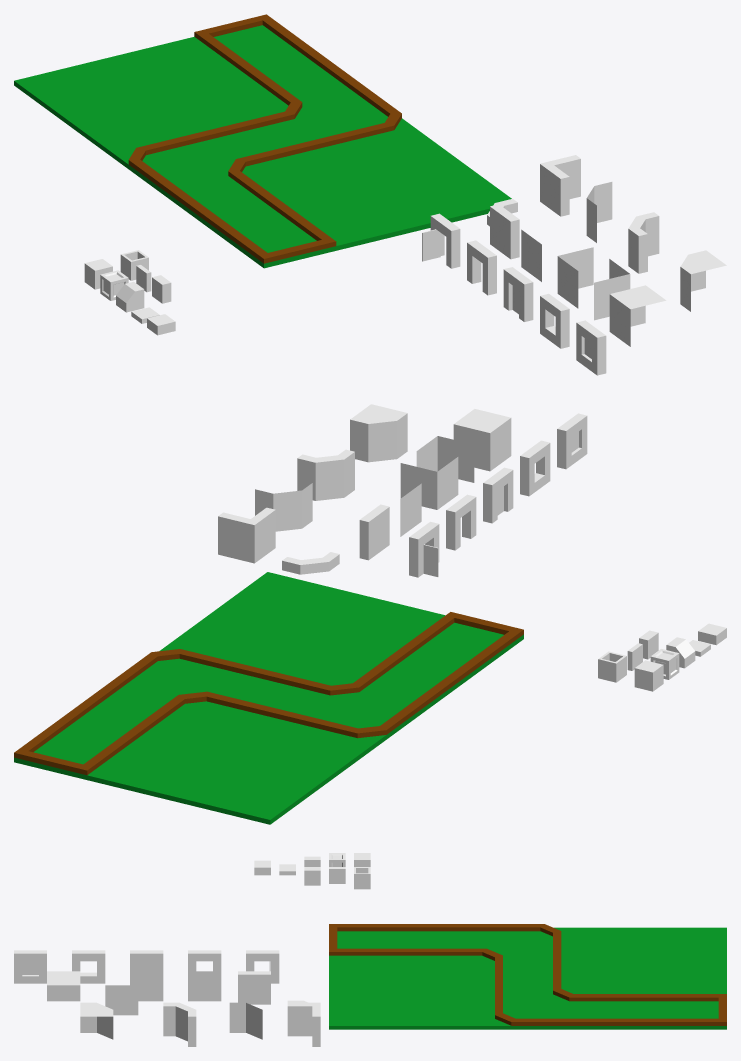
Rendered from Stage02.gltf.
3 renders of one model, top to bottom at view 1: azimuth 30°, elevation 25°; view 2: azimuth 150°, elevation 25°; view 3: azimuth 270°, elevation 25°, orthographic. The views are drawn at different scales.
Visible parts, largest first — view 1: Cube.001, Wall corner.006, Wall corner.007, Wall corner.002, Wall corner, Wall corner top.001, Wall corner bottom.002, Wall corner.003, Wall corner.001, Wall door.002, Wall window, Wall corner top (+13 smaller); view 2: Cube.001, Wall corner.006, Wall corner.007, Wall corner top, Wall corner, Wall corner top.001, Wall corner.001, Wall corner.002, Wall corner bottom.002, Wall corner bottom, Wall corner.003, Wall corner bottom.001 (+12 smaller); view 3: Cube.001, Wall corner.006, Wall corner.002, Wall corner.007, Wall corner.003, Wall corner, Wall corner.001, Wall window, Wall, Wall.107, Wall corner top.001, Wall corner top (+8 smaller).
Part boxes in pixels (box(x1,y1,x2,y2)): Cube.001: box(14, 25, 511, 268); Wall corner.006: box(254, 18, 401, 163); Wall corner.007: box(154, 33, 302, 151); Wall corner.002: box(128, 143, 267, 259); Wall corner: box(540, 155, 580, 216); Wall corner top.001: box(609, 285, 666, 346); Wall corner bottom.002: box(557, 247, 593, 308); Wall corner.003: box(228, 155, 330, 240); Wall corner.001: box(628, 212, 659, 273); Wall door.002: box(422, 213, 460, 268); Wall window: box(576, 320, 606, 375); Wall corner top: box(680, 250, 726, 311); Cube.001: box(14, 572, 523, 824); Wall corner.006: box(19, 649, 316, 752); Wall corner.007: box(83, 691, 344, 771); Wall corner top: box(350, 404, 407, 462); Wall corner: box(218, 507, 275, 563); Wall corner top.001: box(453, 409, 511, 471); Wall corner.001: box(297, 449, 354, 500); Wall corner.002: box(339, 631, 518, 738); Wall corner bottom.002: box(400, 457, 458, 509); Wall corner bottom: box(255, 483, 312, 531); Wall corner.003: box(312, 615, 454, 695); Wall corner bottom.001: box(416, 436, 474, 482); Cube.001: box(329, 927, 726, 1029); Wall corner.006: box(495, 962, 718, 1025); Wall corner.002: box(337, 924, 561, 937); Wall corner.007: box(553, 938, 718, 1001); Wall corner.003: box(337, 948, 502, 962); Wall corner: box(287, 1002, 320, 1046); Wall corner.001: box(163, 1002, 196, 1046); Wall window: box(14, 950, 46, 983); Wall: box(238, 971, 270, 1004); Wall.107: box(188, 971, 221, 1001); Wall corner top.001: box(47, 971, 80, 1001); Wall corner top: box(80, 1002, 113, 1039).
Bounding box in the file's own units: 51 × 4.5 × 86.
